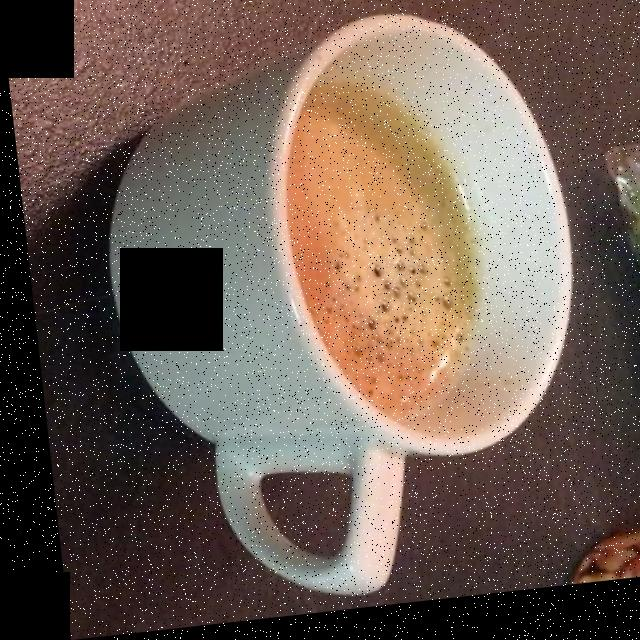coffee-with-caffeine: (284, 94, 468, 420)
